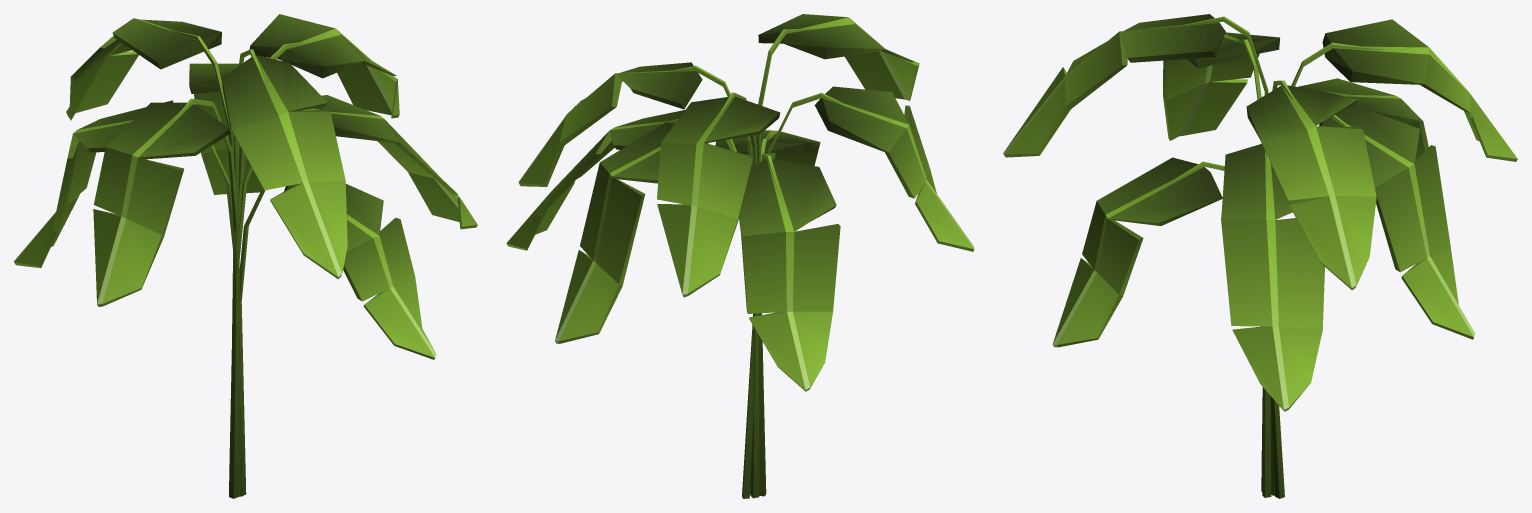
File: Plant_F_1.fbx
The picture shows the model from 3 angles, left to right: view 1: azimuth 30°, elevation 25°; view 2: azimuth 150°, elevation 25°; view 3: azimuth 270°, elevation 25°; orthographic projection. The views are drawn at different scales.
Visible parts, largest first — view 1: Plant_F_1; view 2: Plant_F_1; view 3: Plant_F_1.
Boxes of the visible parts, x1,y1,x2,y2 form: Plant_F_1: (14,14,477,498); Plant_F_1: (506,14,974,498); Plant_F_1: (1003,14,1517,498).
Bounding box in the file's own units: 103 × 106 × 104.
